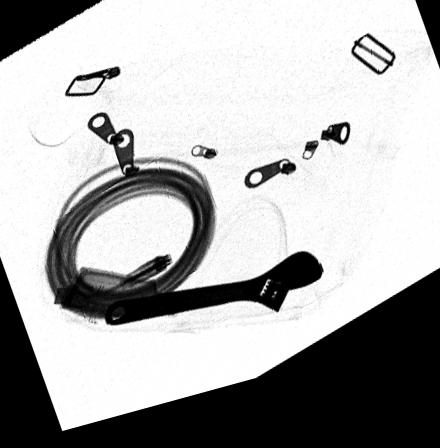Wrench: (100, 265, 324, 334)
